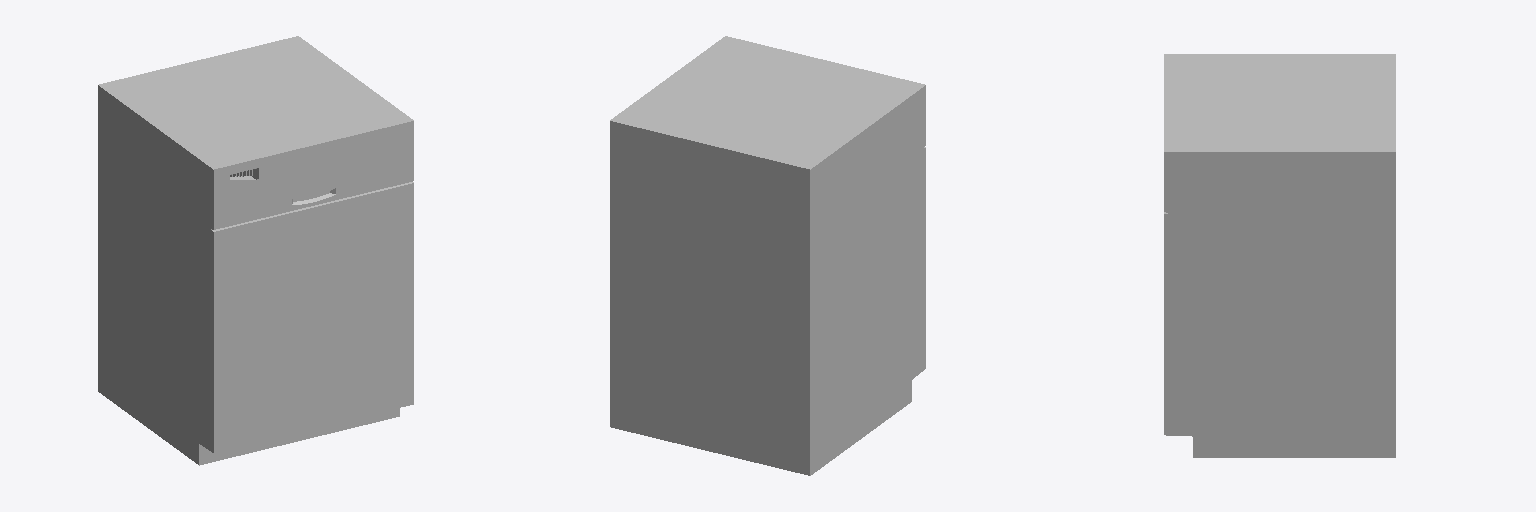
Rendered from DishWasher.obj.
3 views of the same model, side by side, from view 1: azimuth 30°, elevation 25°; view 2: azimuth 150°, elevation 25°; view 3: azimuth 270°, elevation 25° (orthographic).
Parts seen in each view (by area): view 1: DishWasher; view 2: DishWasher; view 3: DishWasher.
Part boxes in pixels (x1,y1,x2,y2): DishWasher: (98, 36, 413, 465); DishWasher: (610, 36, 925, 475); DishWasher: (1164, 54, 1395, 457).
Size of the model in its own units: 24 by 35 by 24.